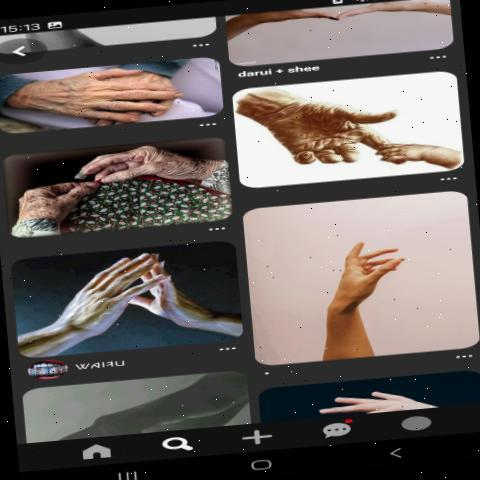Hands: (303, 216, 422, 357), (258, 86, 410, 186), (36, 257, 172, 343), (20, 56, 183, 125), (85, 146, 225, 202), (5, 168, 112, 226)
